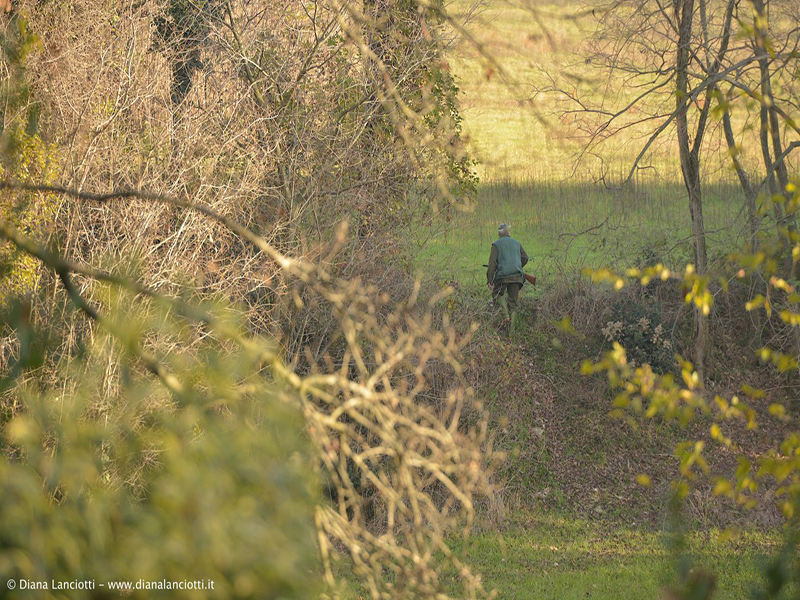cacciatore: (481, 222, 532, 312)
